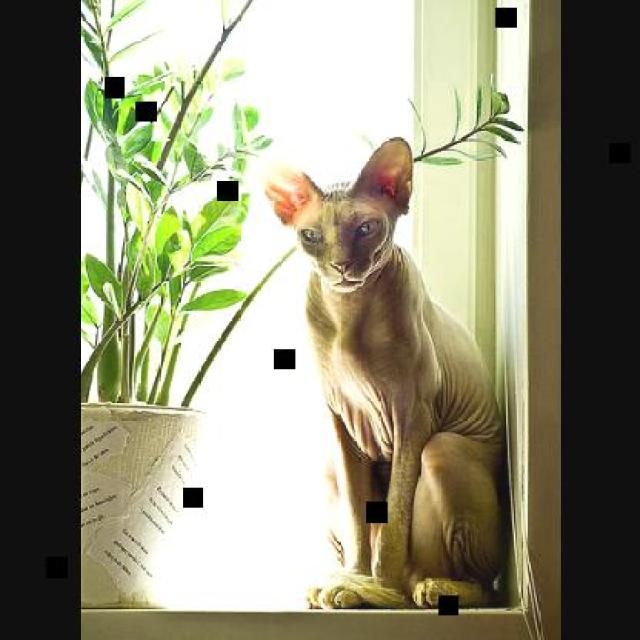unauthorized: (263, 134, 511, 609)
